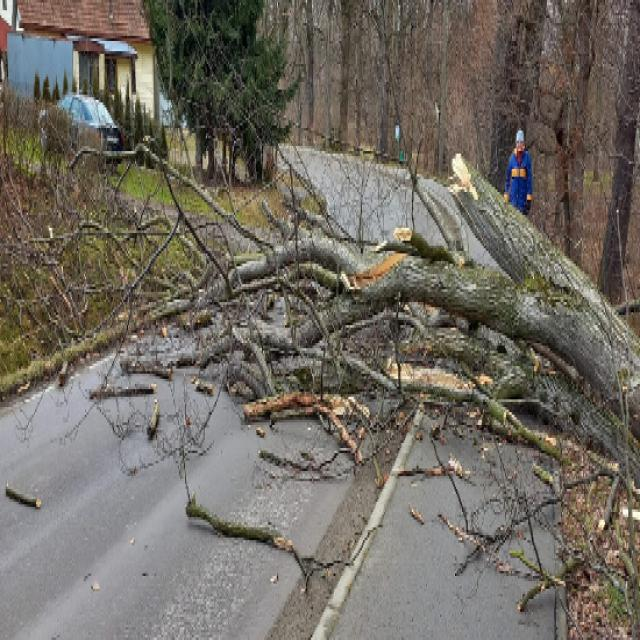fallen_tree: (238, 165, 640, 429)
